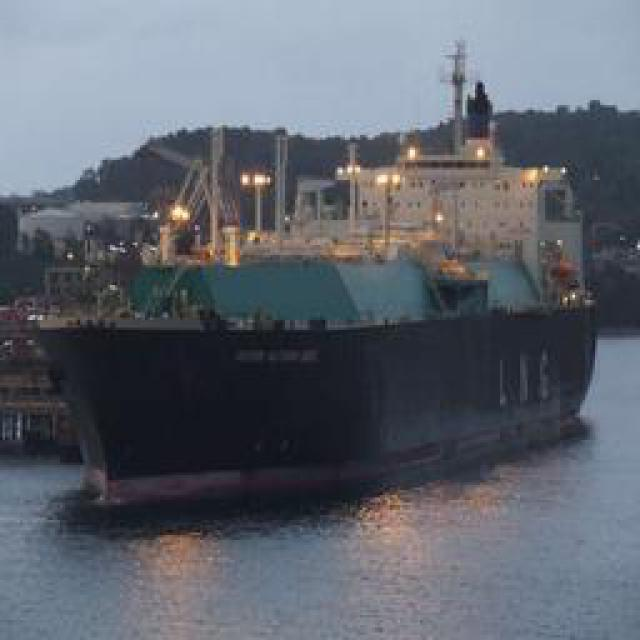Ship: (22, 189, 610, 502)
